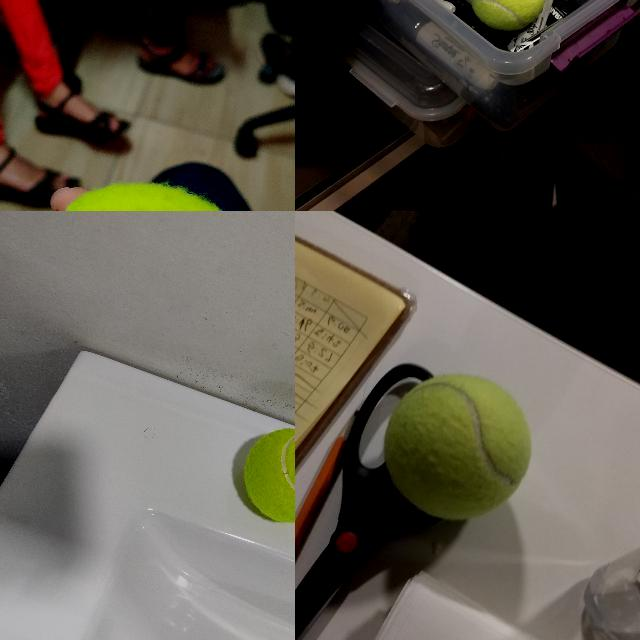Tennis Ball: (383, 372, 532, 520), (243, 427, 295, 524), (468, 0, 547, 31)
